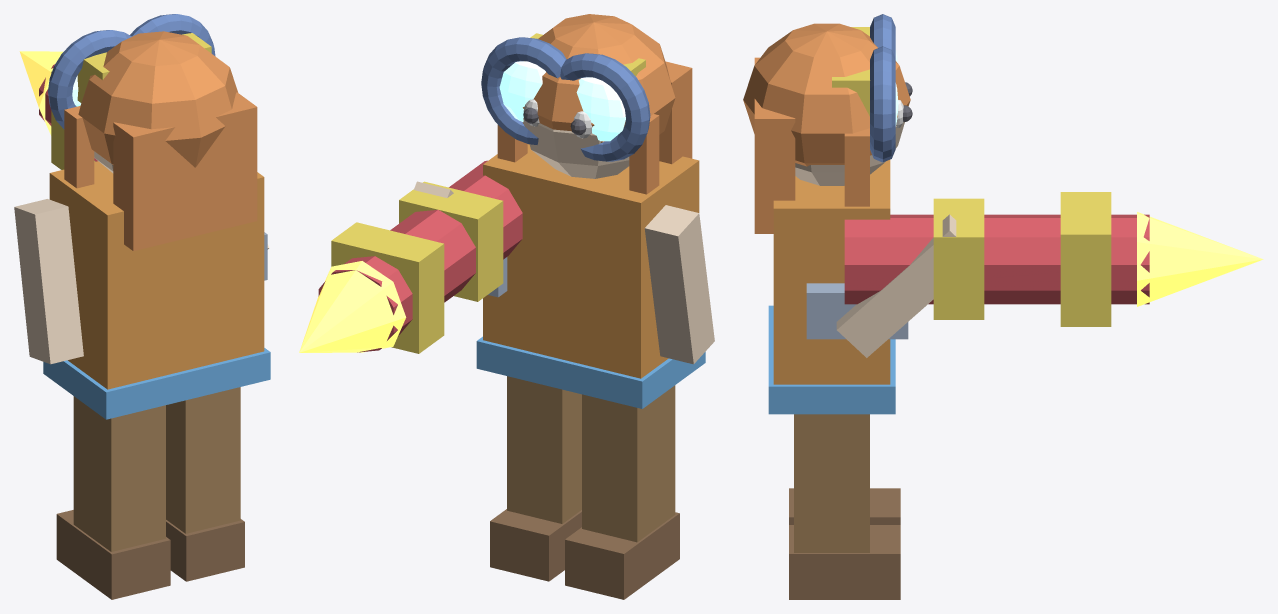
File: firecracker.glb
3 renders of one model, left to right at view 1: azimuth 30°, elevation 25°; view 2: azimuth 150°, elevation 25°; view 3: azimuth 270°, elevation 25°, orthographic.
Parts seen in each view (by area): view 1: firecracker; view 2: firecracker; view 3: firecracker.
Part boxes in pixels (x1,y1,x2,y2): firecracker: (14, 14, 270, 599); firecracker: (299, 14, 714, 599); firecracker: (743, 14, 1263, 599).
Bounding box in the file's own units: 1.08 × 2.33 × 2.05.
